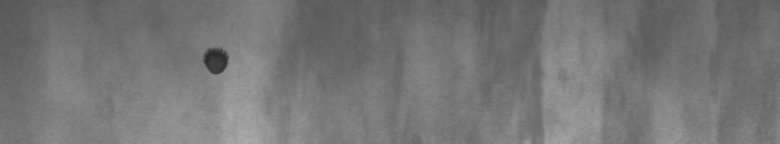fi: (197, 40, 236, 80)
